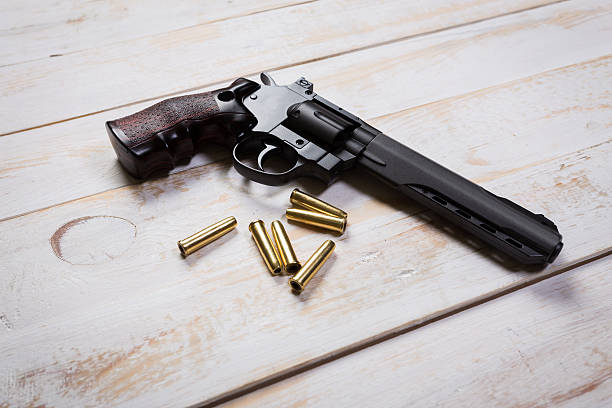gun: (104, 67, 564, 274)
